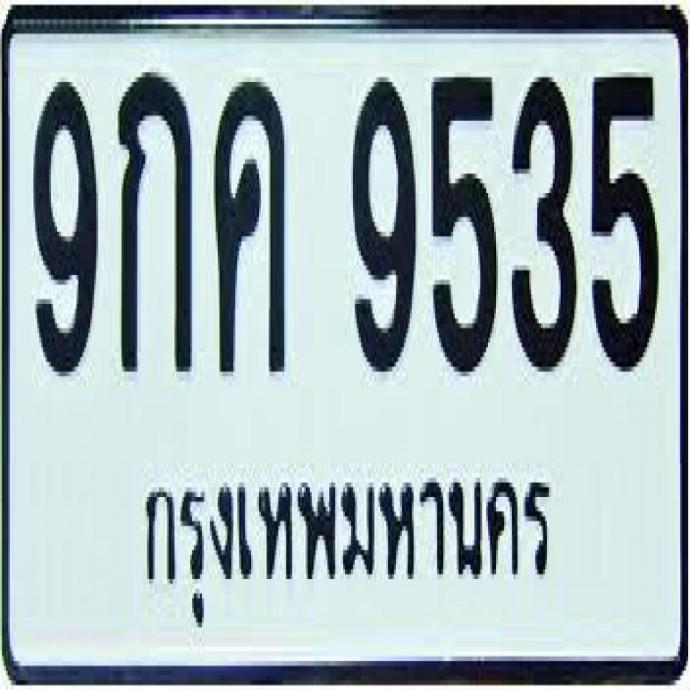3: (510, 73, 576, 370)
5: (590, 67, 658, 371), (428, 72, 496, 376)
9: (31, 77, 95, 377), (350, 74, 414, 373)
A01: (116, 67, 191, 371)
A04: (212, 77, 285, 373)
BKK: (128, 450, 563, 633)
